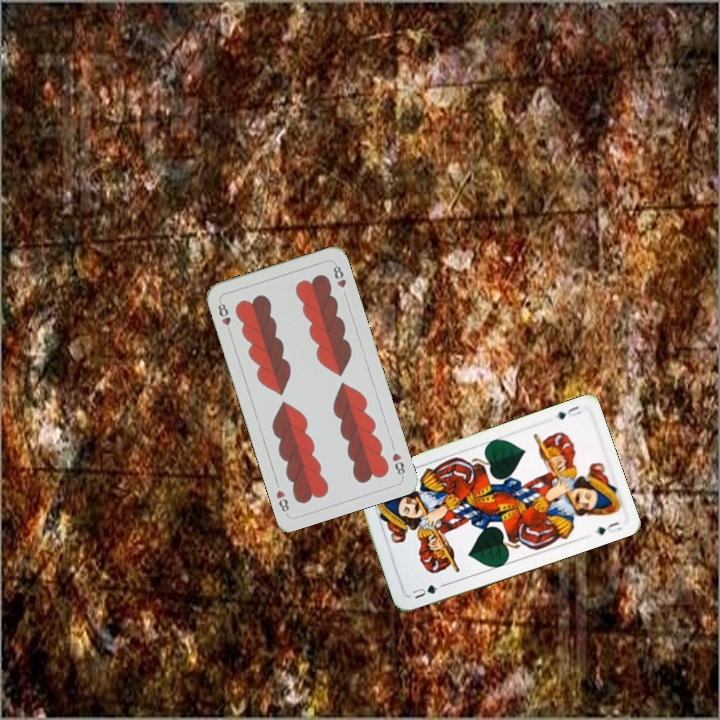GU: (408, 580, 440, 602), (551, 402, 584, 422)
H8: (214, 297, 234, 336), (388, 448, 408, 479)
